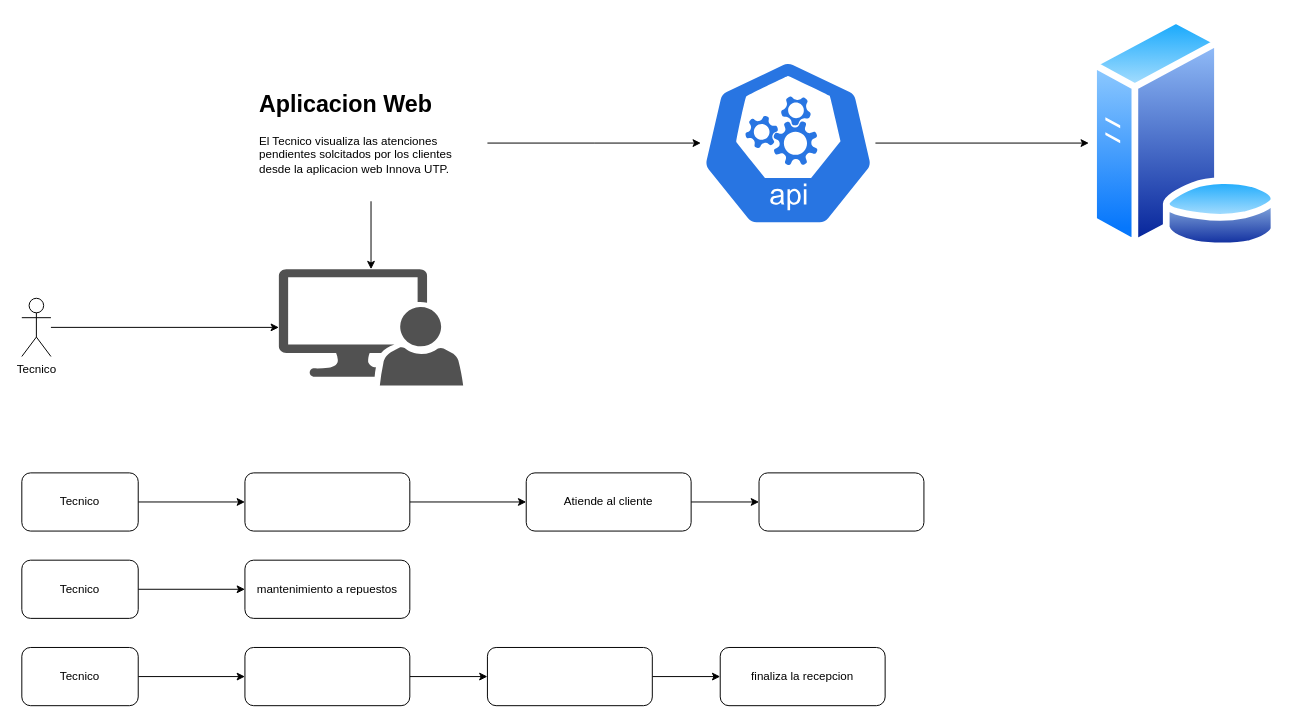
This 1297x723 diagram has some shape labels left out. The shapes that lost their labels are listed below. From the top down, each one's centre as x and y in pixels, then its label:
At point (327, 501): "Atenciones Pendientes".
At point (841, 501): "Finaliza la atencion".
At point (327, 676): "recepciona equipos / genera documento guia de recepcion".
At point (569, 676): "genera cotizacion".
